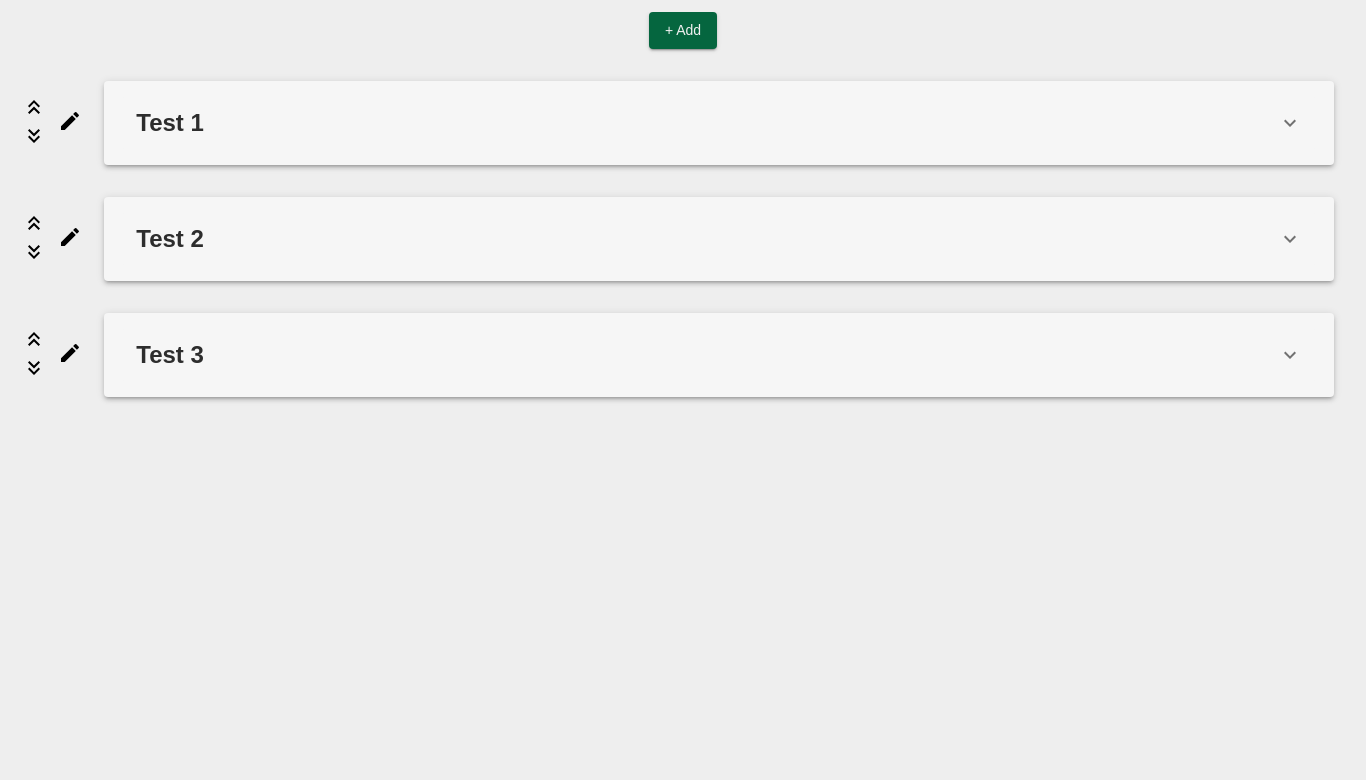
Test: Wiki items component › edits a wiki item when its edit button is clicked by an admin or a manager
Click the button with test id "#edit-1". click: (70, 122)
box: 52,64 -> 88,180
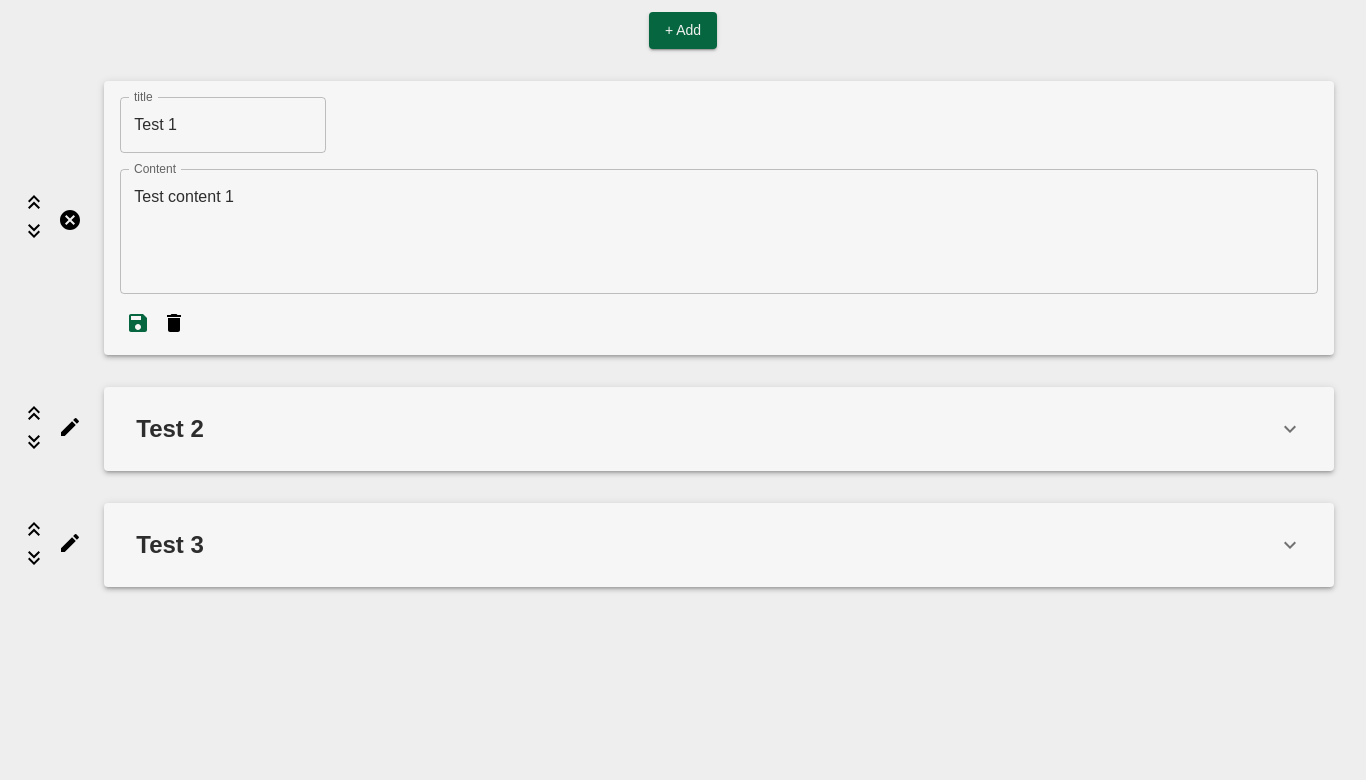
Replace the text in the field with test id "#title-1" with "Updated Test 1". click: (223, 124)
box: 120,96 -> 326,152
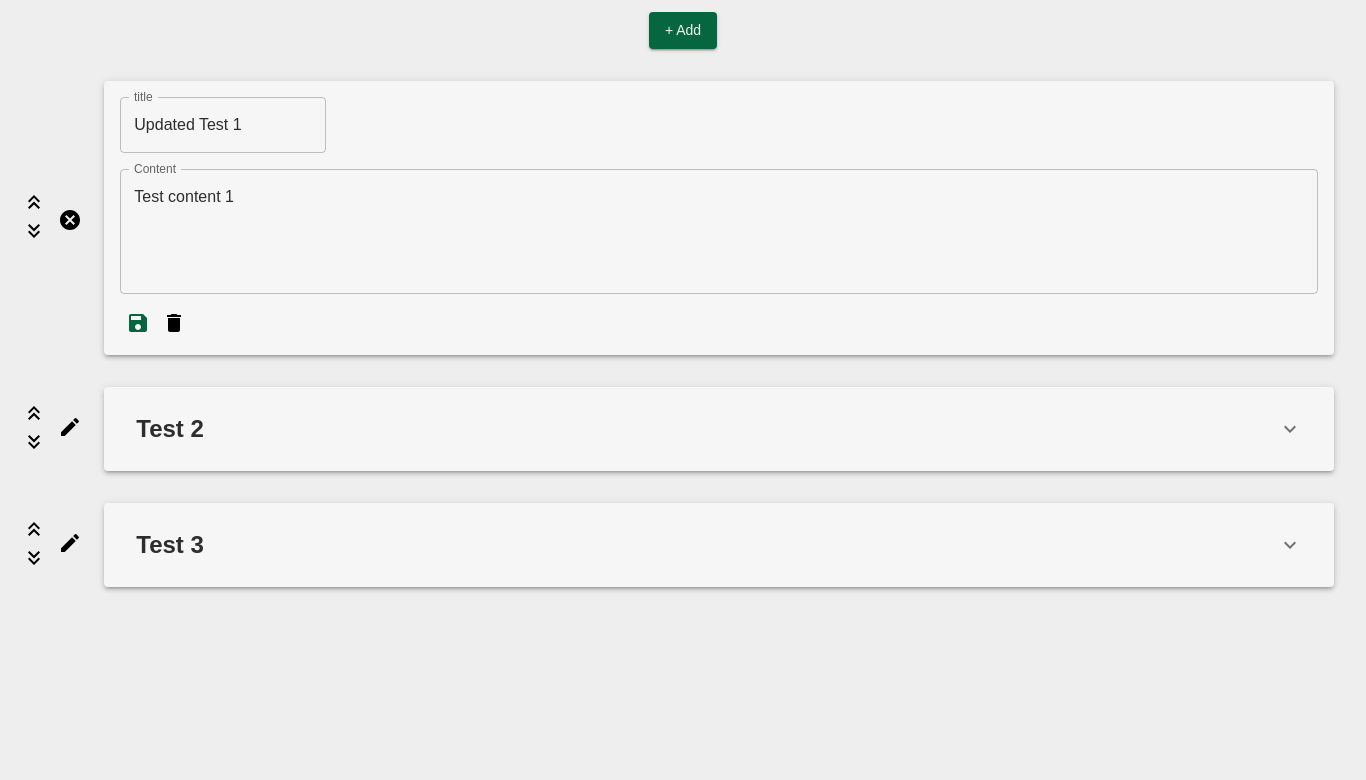
Replace the text in the text box with test id "#content-1" with "Updated Test content 1". click: (719, 231)
box: 134,185 -> 1304,277
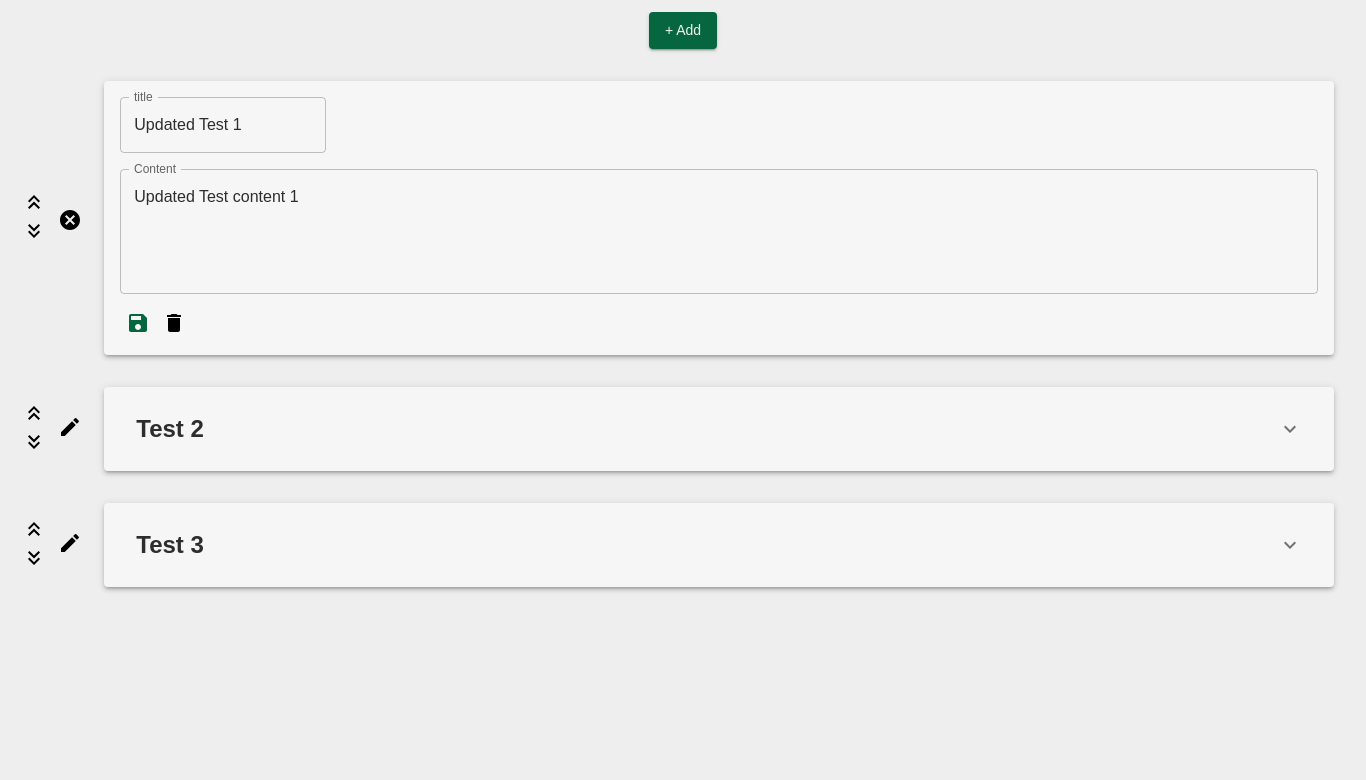
Click the button with test id "#update-1". click: (138, 324)
box: 120,310 -> 156,338
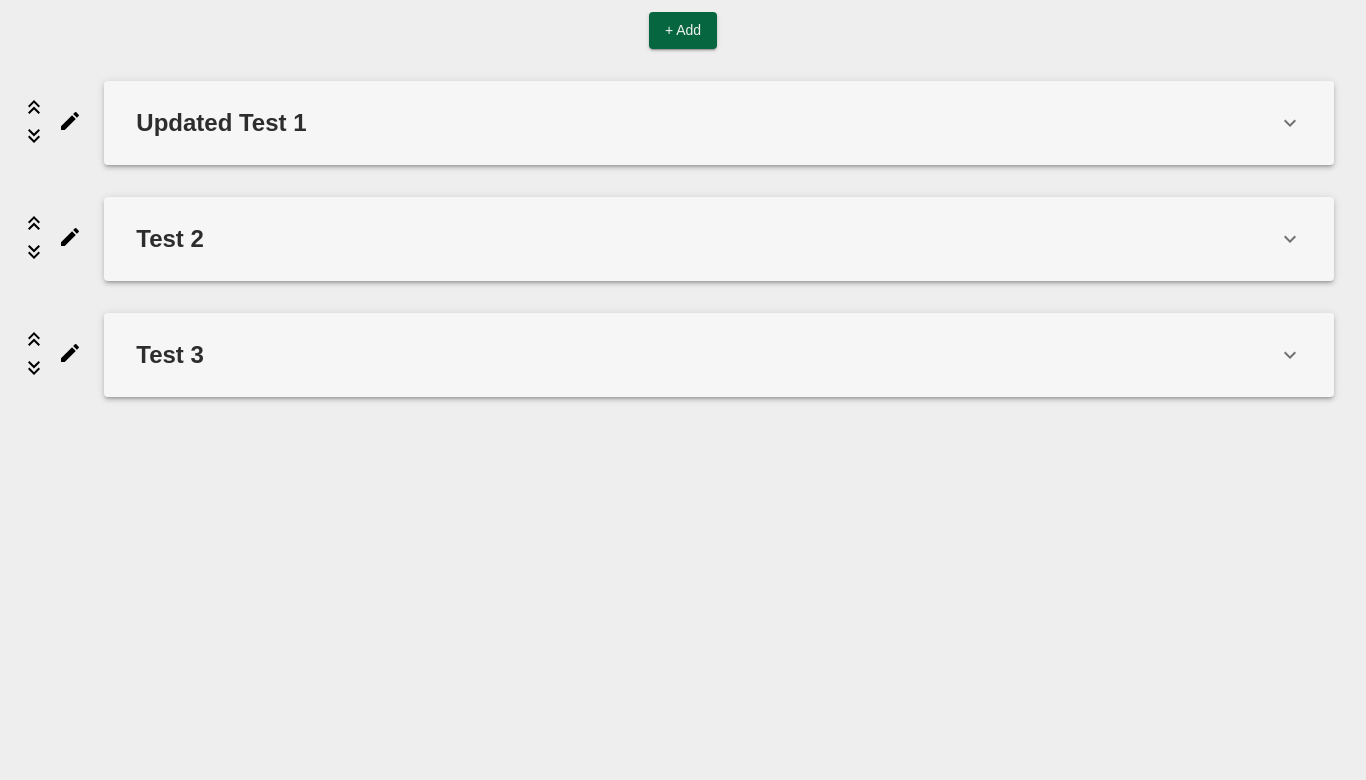
Expected: the text "Test content 1" is not shown
Expected: the heading "Updated Test 1" is shown, 136,108 -> 307,136
